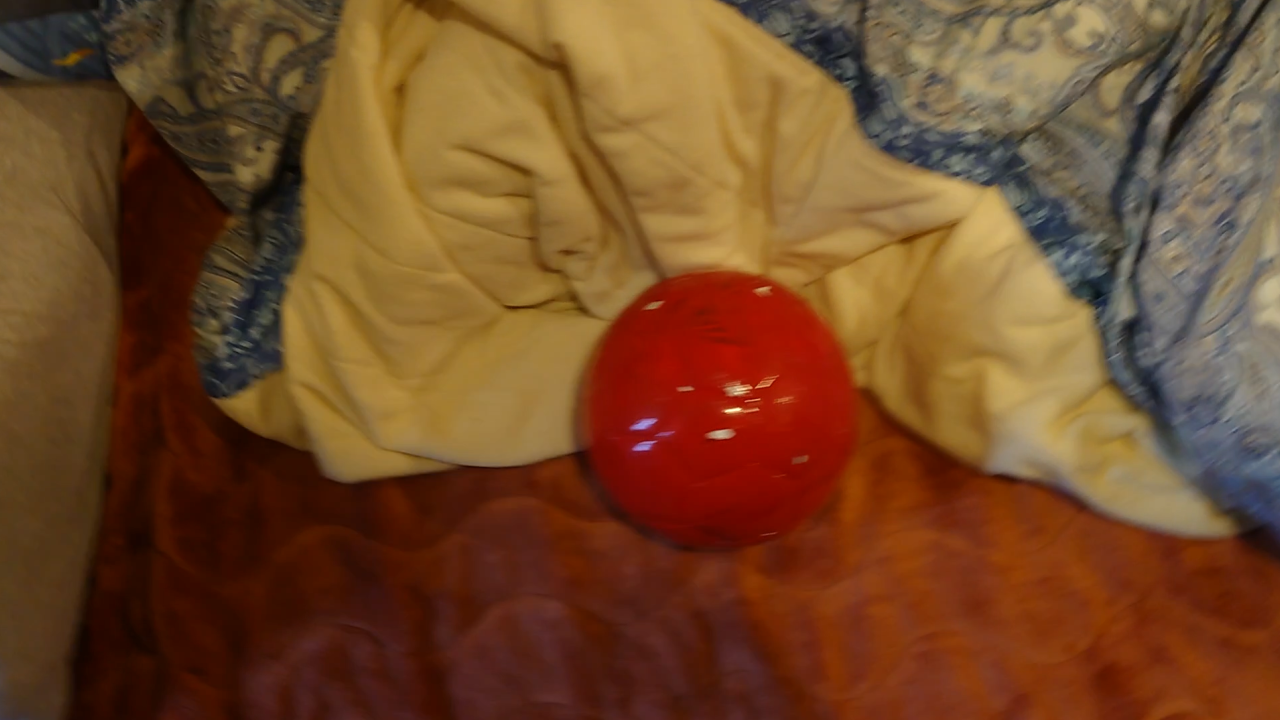red: (566, 275, 854, 546)
